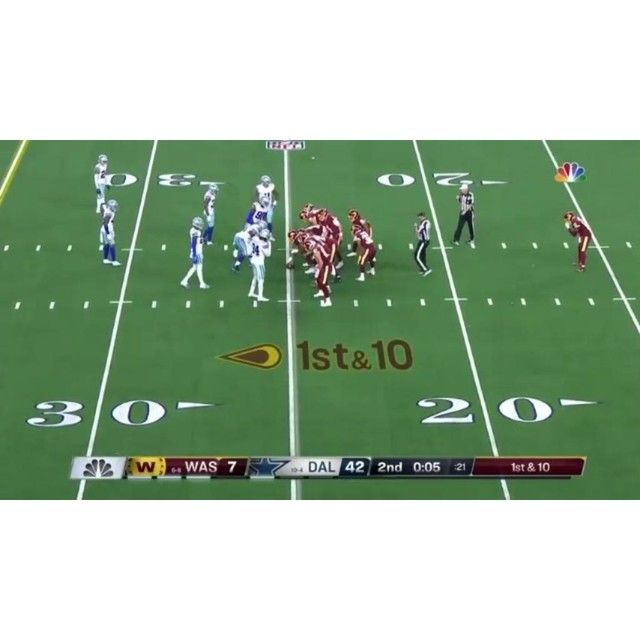american-football-player: (180, 218, 212, 290), (246, 229, 273, 304), (232, 215, 266, 274), (305, 239, 332, 305), (563, 211, 591, 273), (451, 183, 477, 247), (351, 223, 378, 282), (98, 199, 120, 265), (93, 154, 111, 211), (202, 184, 218, 244), (298, 203, 321, 229)
referee: (412, 211, 433, 276)
